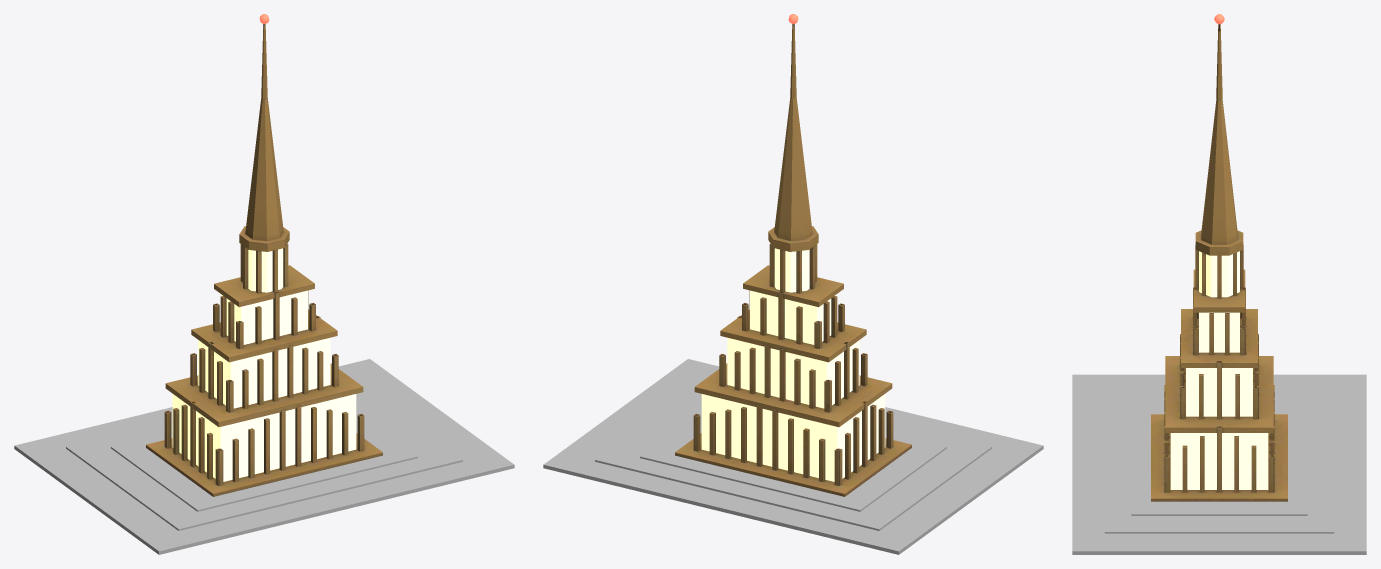
Rendered from tower-deco.glb.
The picture shows the model from 3 angles, left to right: view 1: azimuth 30°, elevation 25°; view 2: azimuth 150°, elevation 25°; view 3: azimuth 270°, elevation 25°; orthographic projection.
Visible parts, largest first — view 1: Body, Crown, Glow, Frame; view 2: Body, Crown, Glow, Frame; view 3: Body, Crown, Glow.
Boxes of the visible parts, bbox=[...] form: Body: bbox=[14, 359, 514, 554]; Crown: bbox=[146, 24, 382, 496]; Glow: bbox=[172, 248, 356, 481]; Frame: bbox=[109, 360, 469, 549]; Body: bbox=[543, 359, 1043, 554]; Crown: bbox=[675, 24, 911, 496]; Glow: bbox=[701, 248, 885, 481]; Frame: bbox=[592, 360, 948, 549]; Body: bbox=[1072, 374, 1366, 554]; Crown: bbox=[1151, 24, 1287, 501]; Glow: bbox=[1170, 251, 1268, 489].
Size of the model in its own units: 44 by 52.55 by 31.
Materials: 5 (1 with a texture image).
